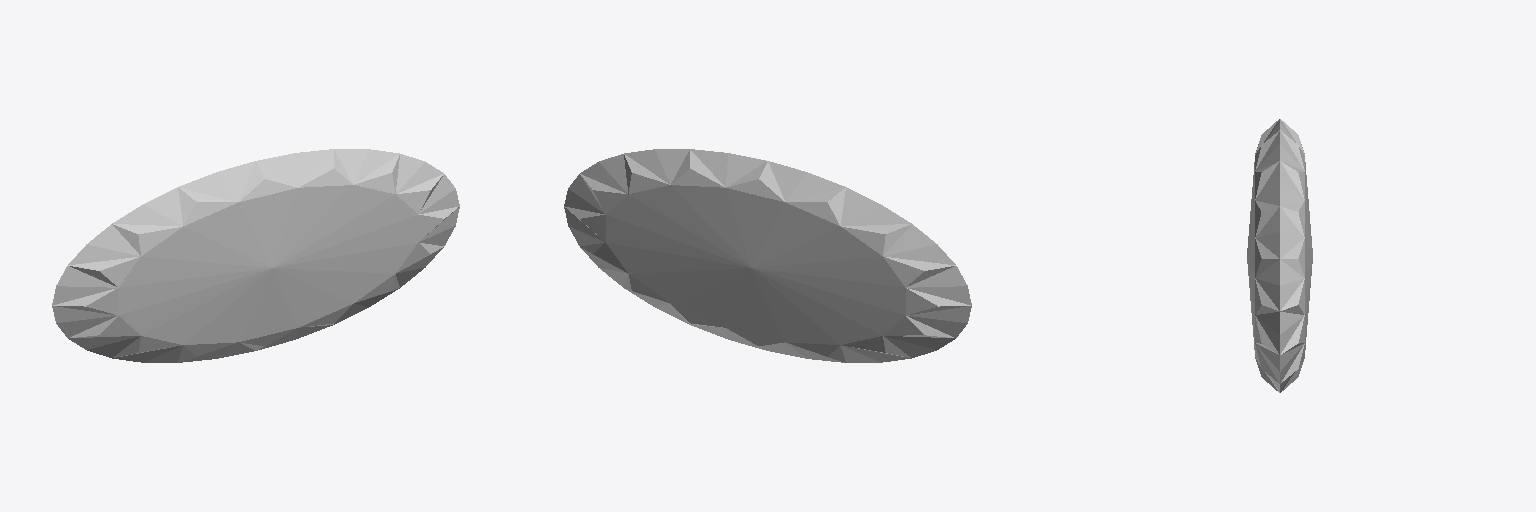
Rendered from thrust.obj.
3 views of the same model, side by side, from view 1: azimuth 30°, elevation 25°; view 2: azimuth 150°, elevation 25°; view 3: azimuth 270°, elevation 25° (orthographic).
Visible parts, largest first — view 1: Cylinder2; view 2: Cylinder2; view 3: Cylinder2.
Part boxes in pixels (bbox=[...]): Cylinder2: bbox=[52, 149, 459, 362]; Cylinder2: bbox=[564, 149, 971, 362]; Cylinder2: bbox=[1247, 119, 1312, 392].
Bounding box in the file's own units: 1.53 × 0.6808 × 0.2147.